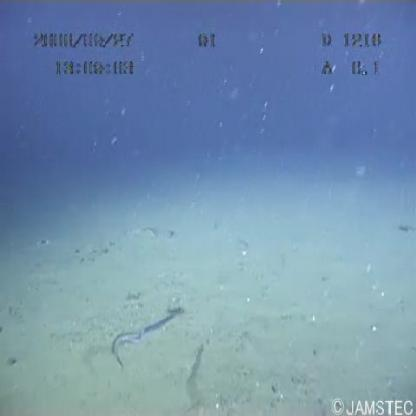Bio: (106, 301, 189, 380)
